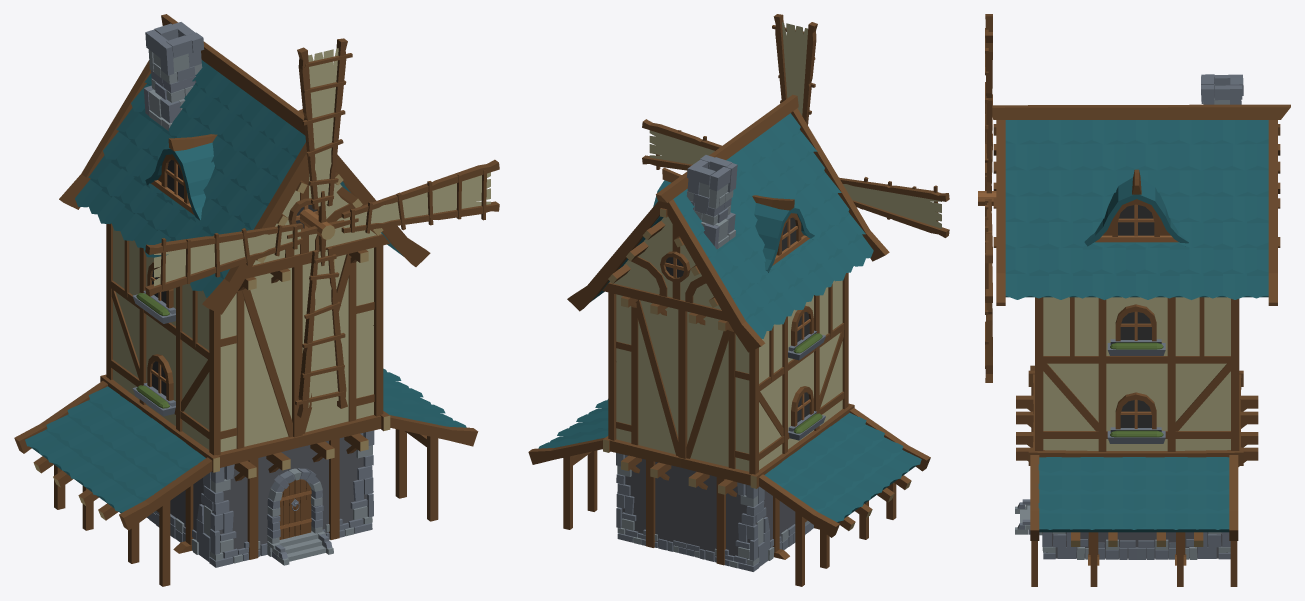
Rendered from Mill.glb.
3 renders of one model, left to right at view 1: azimuth 30°, elevation 25°; view 2: azimuth 150°, elevation 25°; view 3: azimuth 270°, elevation 25°, orthographic. The views are drawn at different scales.
Visible parts, largest first — view 1: Mill, Mill_Blades; view 2: Mill, Mill_Blades; view 3: Mill, Mill_Blades.
Boxes of the visible parts, left/top/right/bottom form: Mill: left=14, top=14, right=478, bottom=586; Mill_Blades: left=145, top=38, right=499, bottom=417; Mill: left=528, top=94, right=930, bottom=586; Mill_Blades: left=642, top=14, right=949, bottom=237; Mill: left=992, top=74, right=1290, bottom=586; Mill_Blades: left=978, top=14, right=996, bottom=382.
Size of the model in its own units: 3.4 by 4.8 by 2.73.
